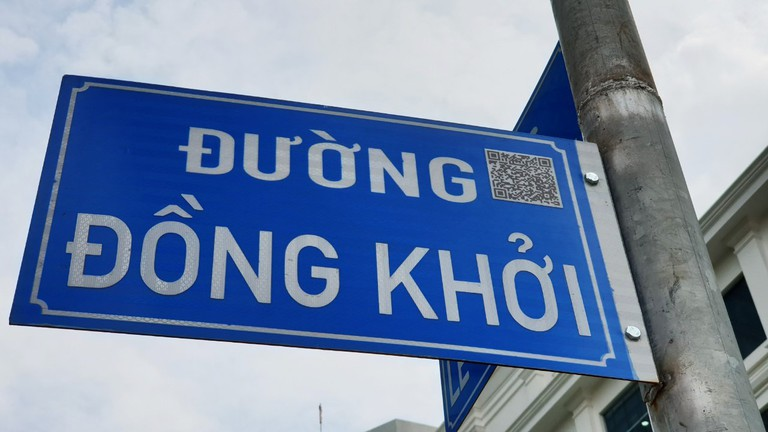streetname: (14, 55, 634, 378)
